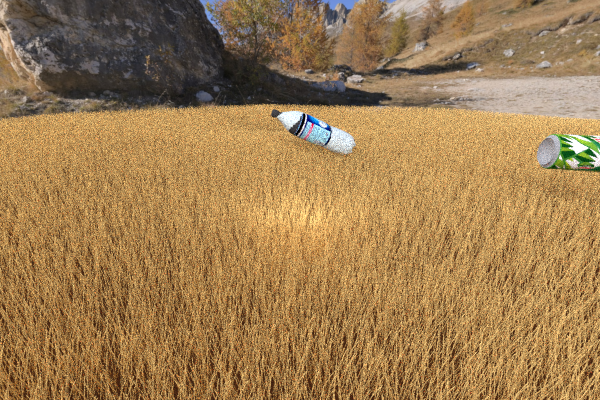bottle: (271, 109, 355, 155)
can: (536, 133, 600, 172)
